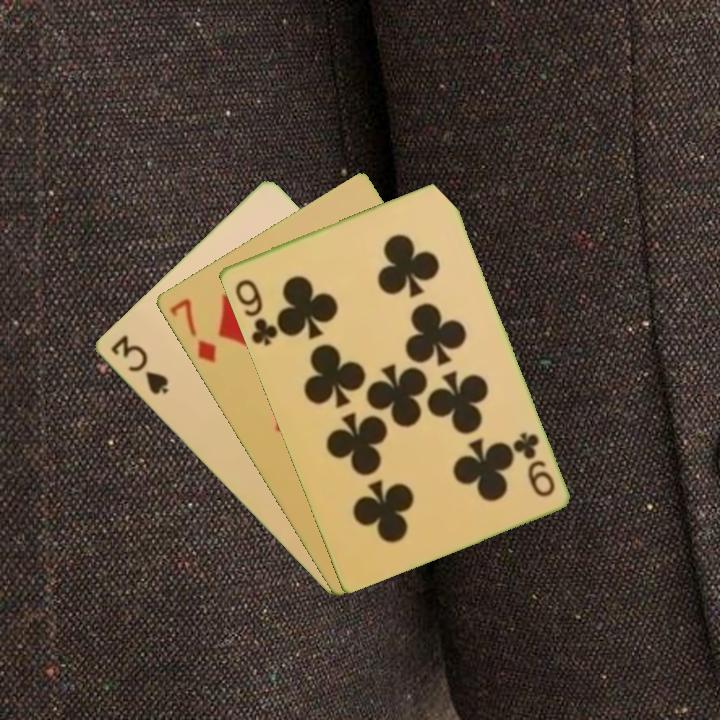3s: (106, 331, 171, 398)
7d: (165, 294, 219, 367)
9c: (230, 275, 280, 349), (509, 428, 558, 500)
